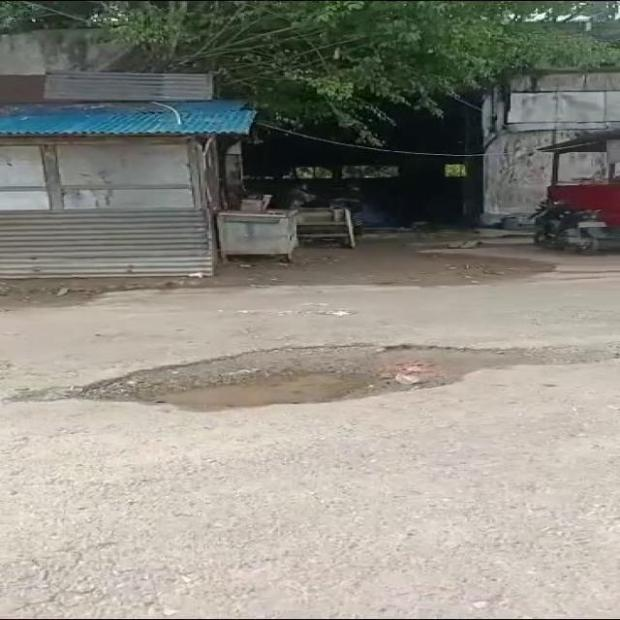lubang: (3, 346, 619, 410)
